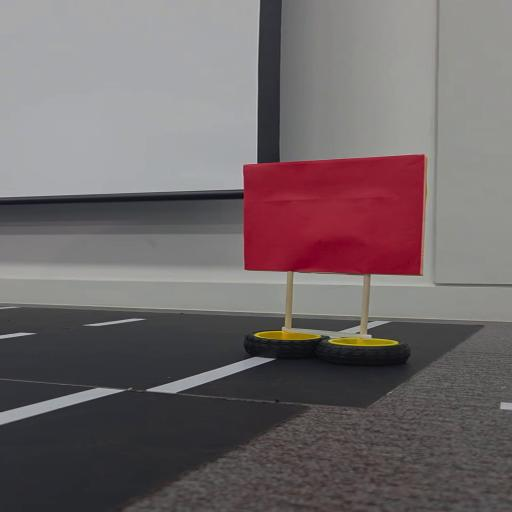Sign_A: (231, 154, 438, 368)
